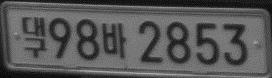2: (137, 20, 163, 63)
3: (222, 22, 248, 66)
5: (195, 22, 220, 64)
8: (165, 20, 191, 64), (74, 17, 100, 60)
9: (48, 17, 72, 59)
대구_V: (21, 16, 47, 57)
바: (101, 22, 128, 58)
